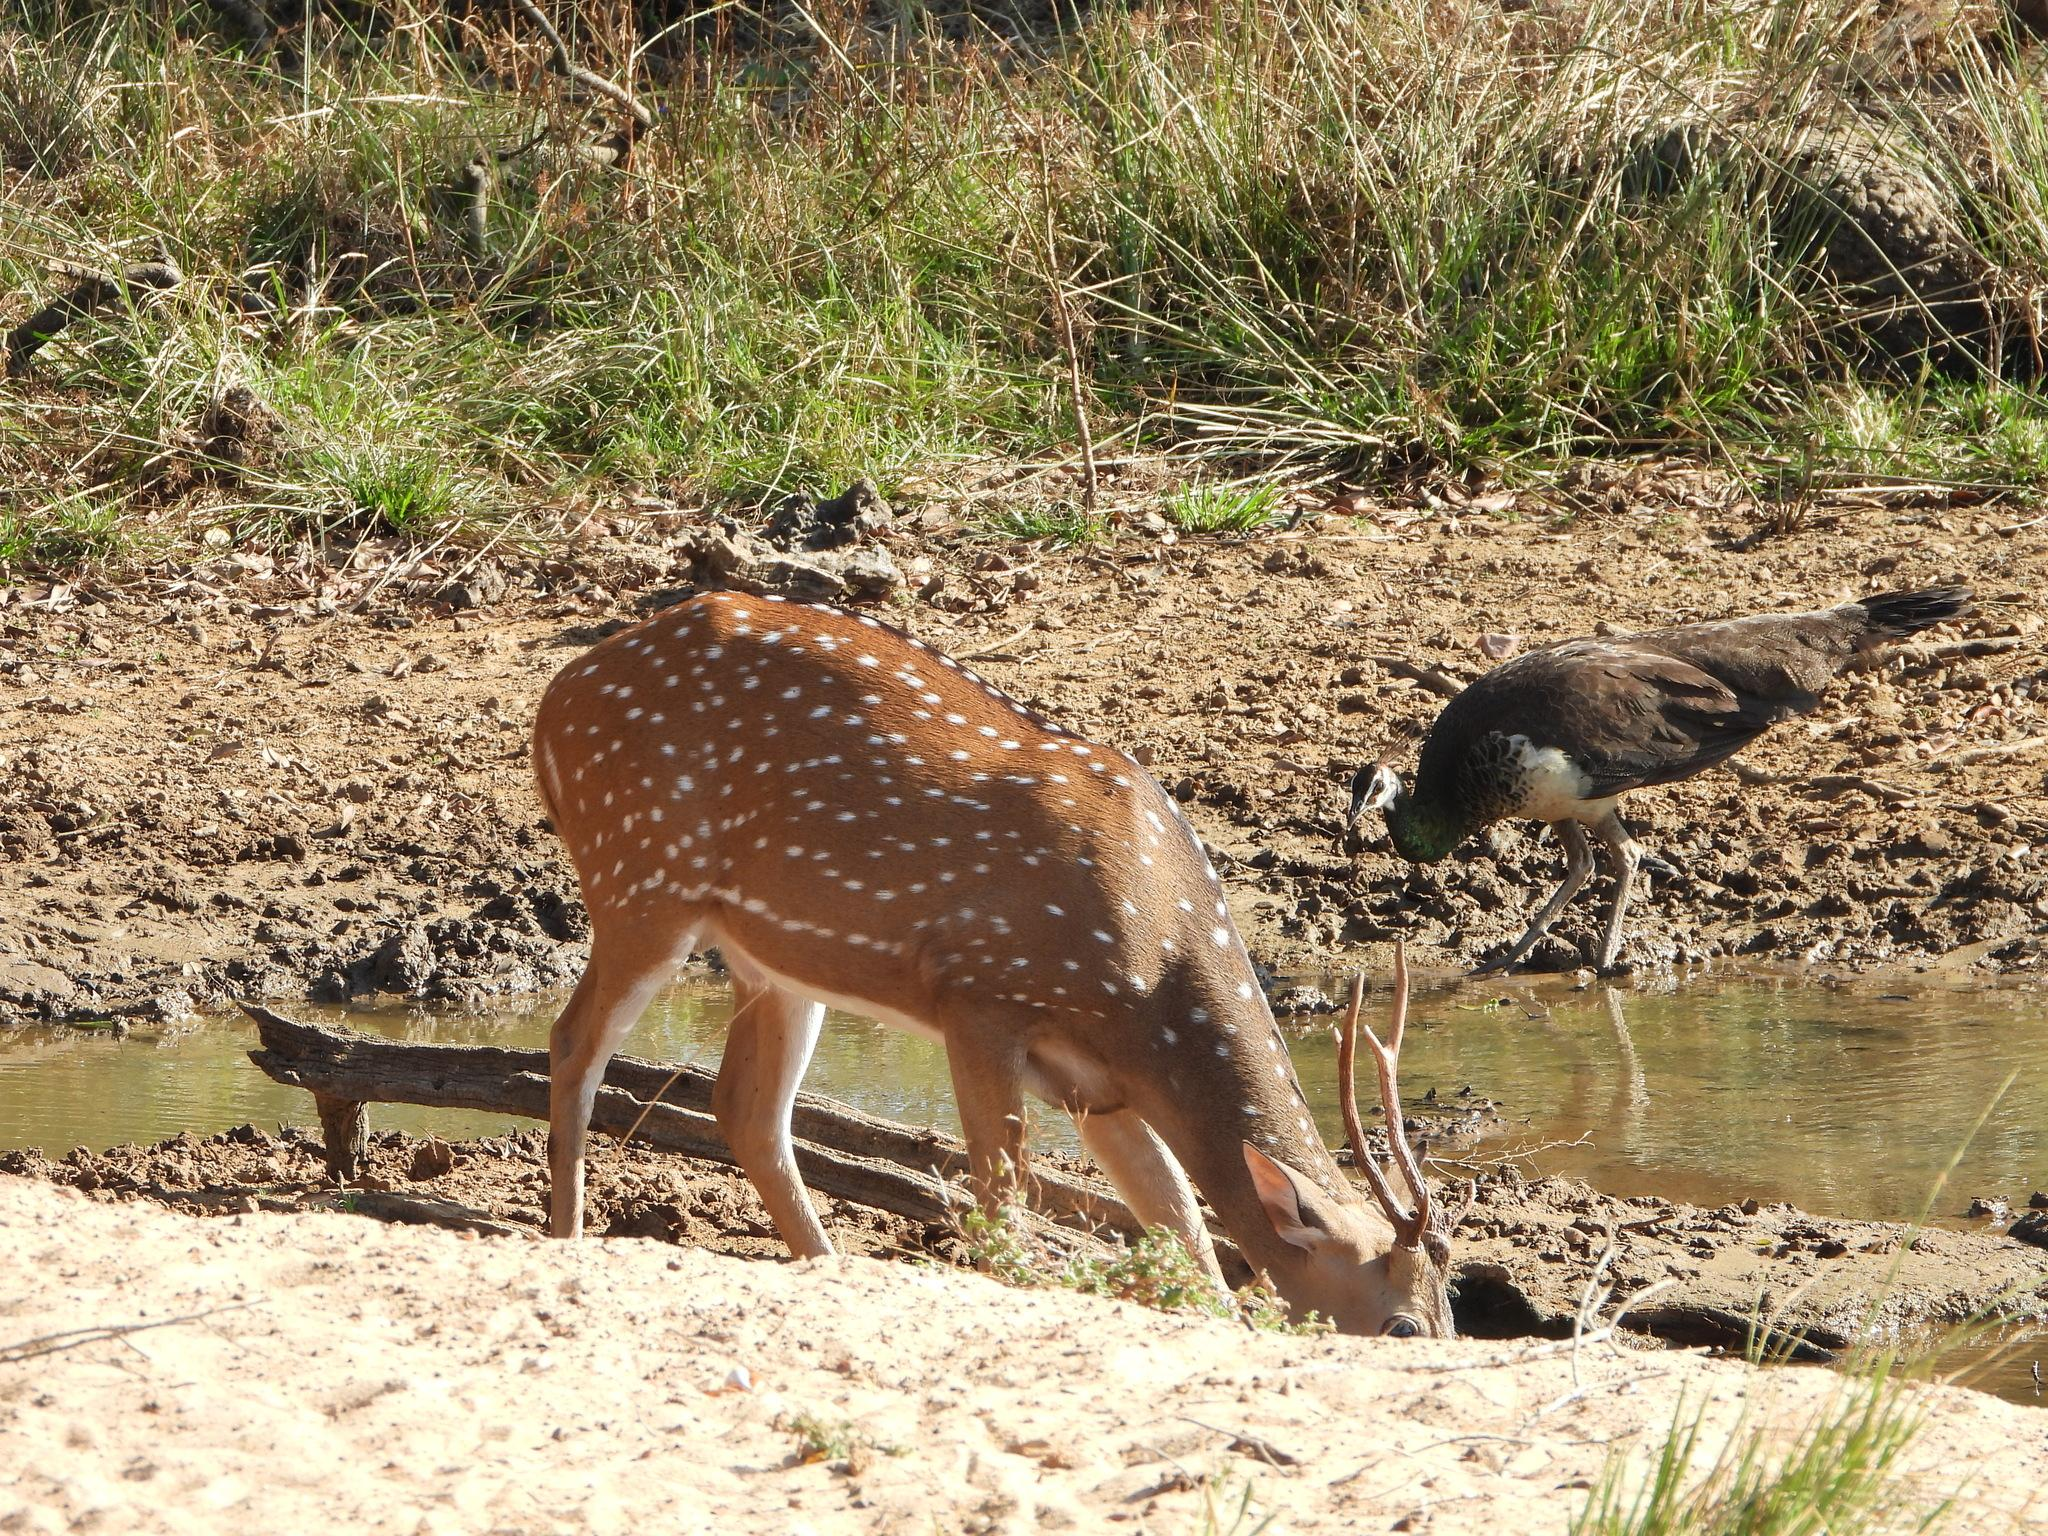Deer: (534, 592, 1453, 1338)
